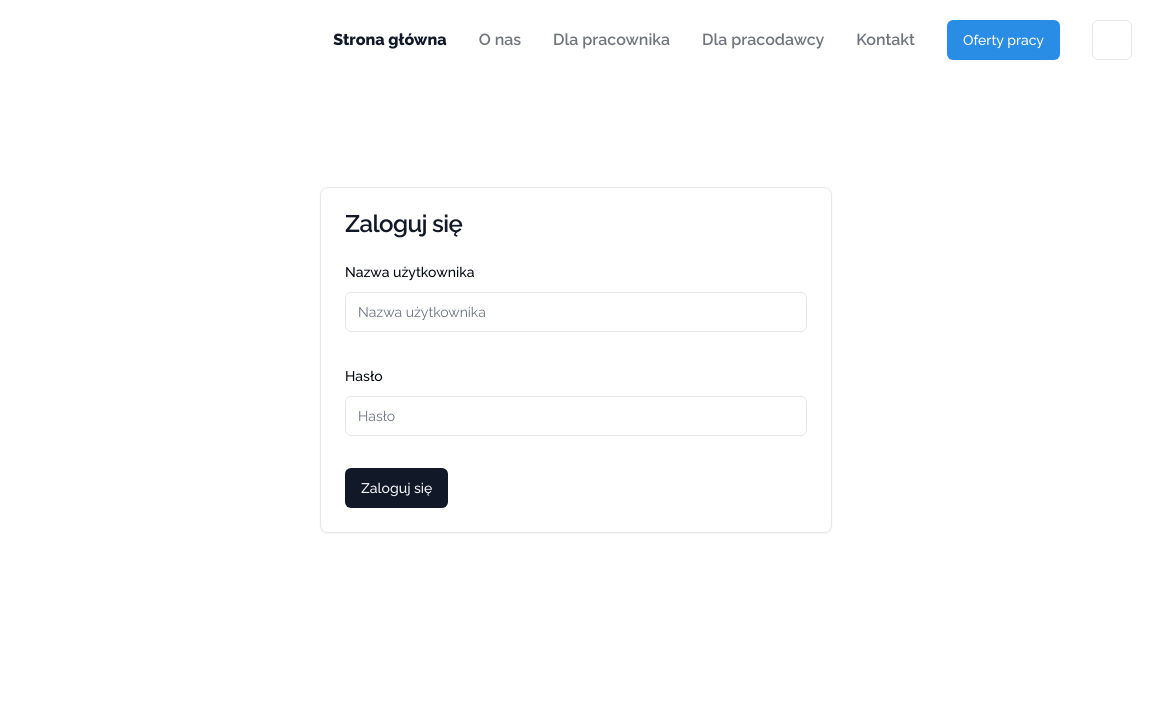
Scenario: Login tests › should display a toast after wrong data or error
The width and height of the screenshot is (1152, 720).
Check: the form with test id "login-form" is shown, box [345, 260, 807, 508]
Type "jankowalski" into the field with test id "username" at (576, 312), box [345, 292, 807, 332]
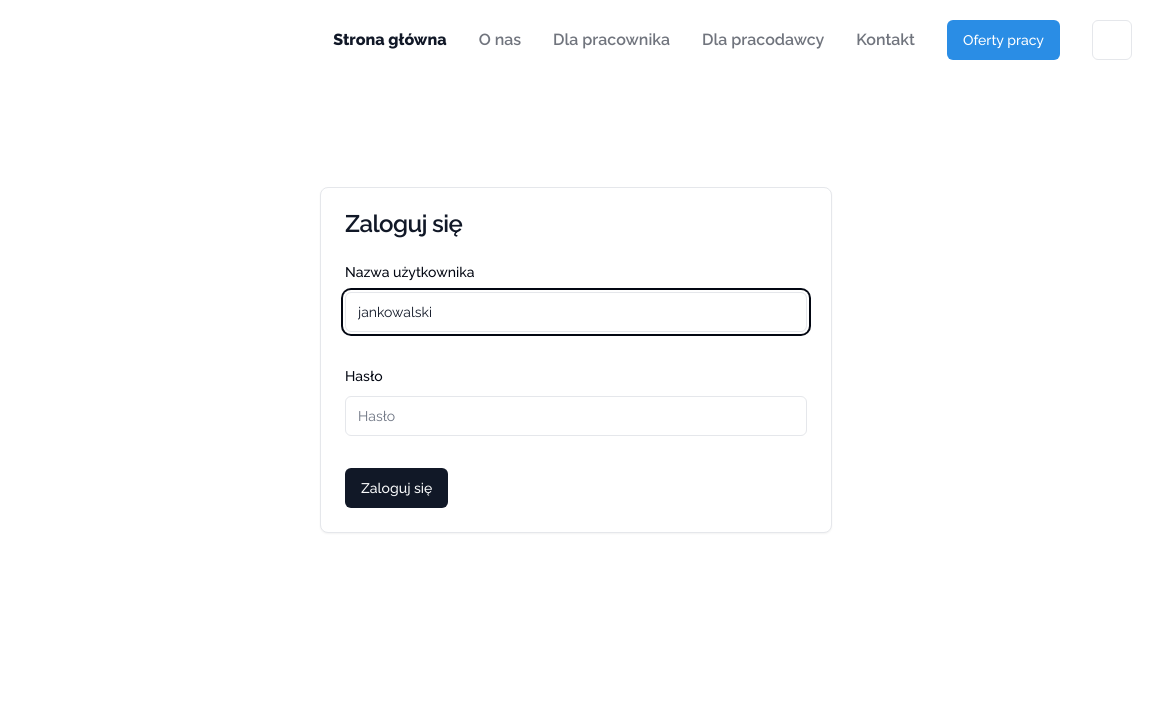
Type "password" into the password field with test id "password" at (576, 416), box [345, 396, 807, 436]
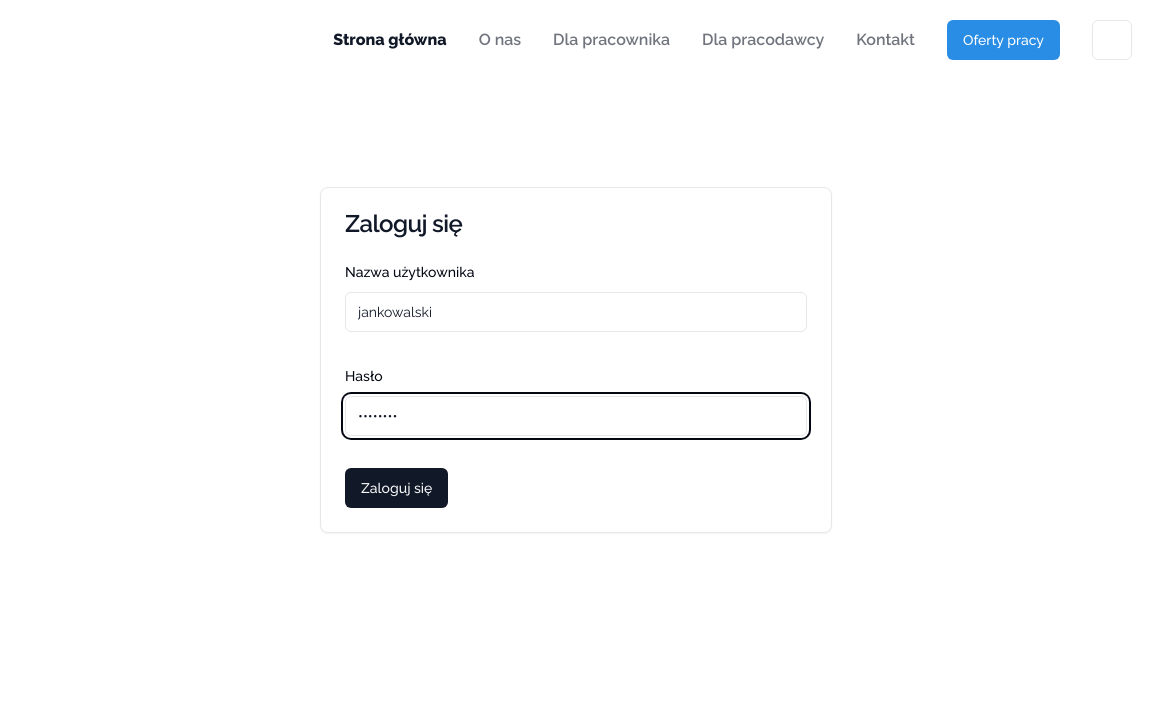
Click the button with test id "login-submit" at (397, 488), box [345, 468, 448, 508]
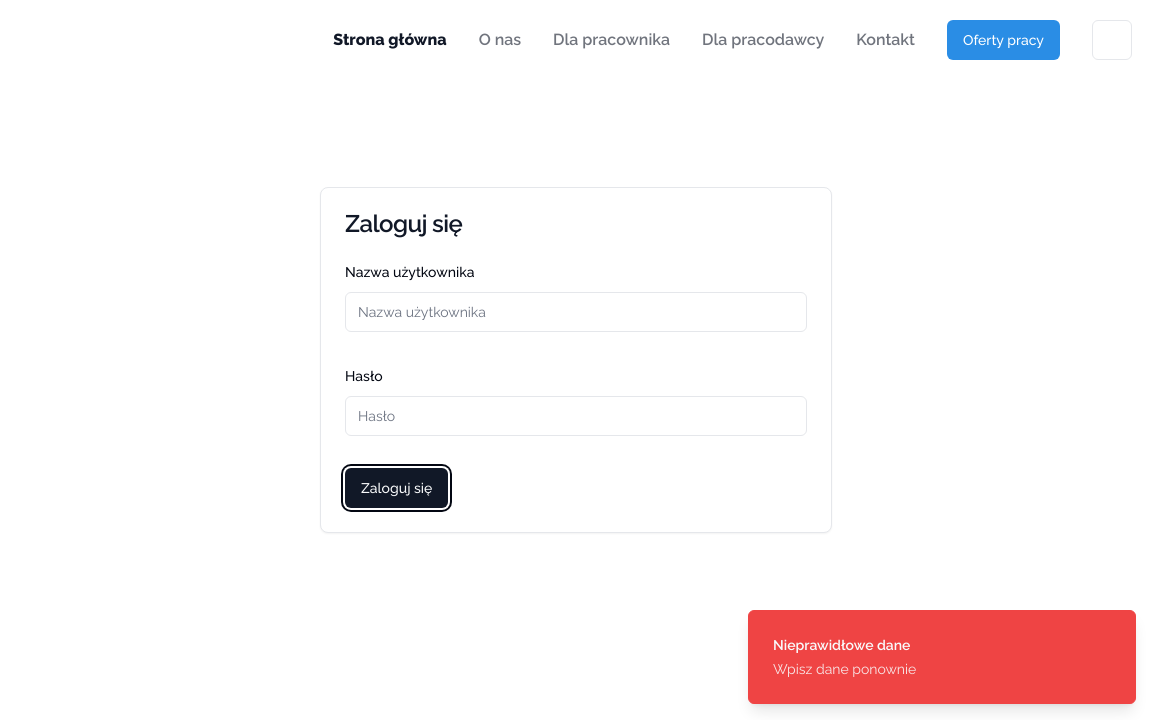
Check: the text "Nieprawidłowe dane" is shown, box [773, 635, 916, 655]
Check: the text "Wpisz dane ponownie" is shown, box [773, 659, 916, 679]
